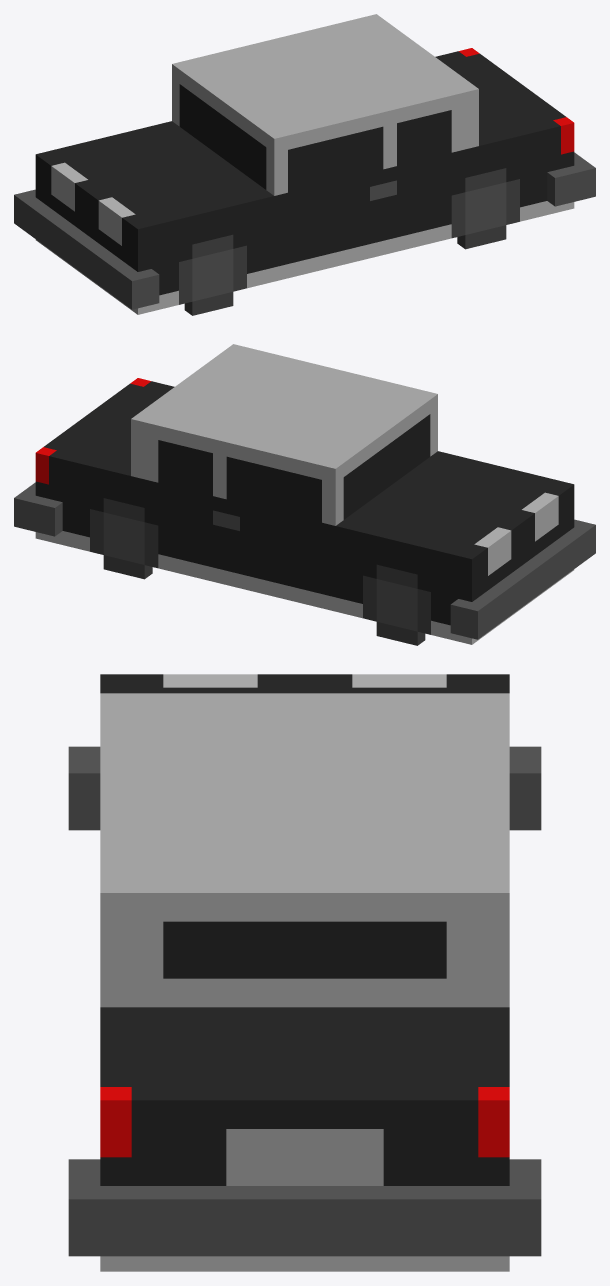
Rendered from voiture1black.obj.
3 views of the same model, one above another, from view 1: azimuth 30°, elevation 25°; view 2: azimuth 150°, elevation 25°; view 3: azimuth 270°, elevation 25° (orthographic). The views are drawn at different scales.
Parts seen in each view (by area): view 1: voiture1black; view 2: voiture1black; view 3: voiture1black.
Boxes of the visible parts, x1,y1,x2,y2 form: voiture1black: [14, 14, 595, 315]; voiture1black: [14, 344, 595, 645]; voiture1black: [68, 674, 541, 1271].
Bounding box in the file's own units: 34 × 11 × 15.
Materials: 1 (1 with a texture image).
